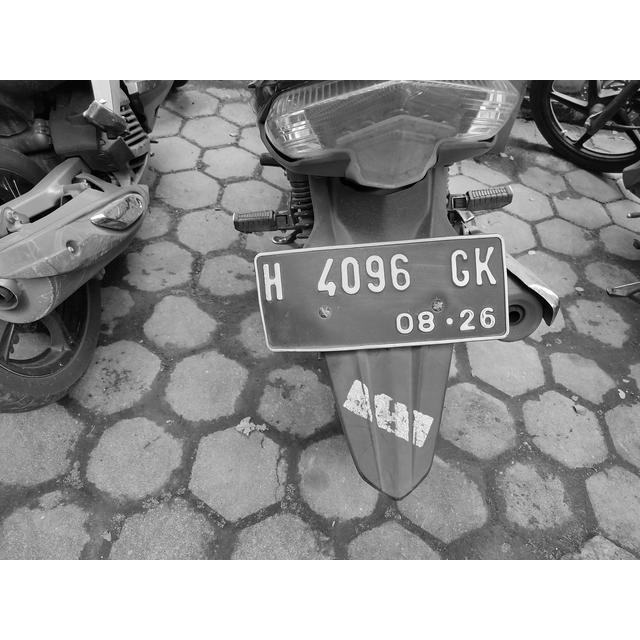license: (261, 241, 502, 337)
